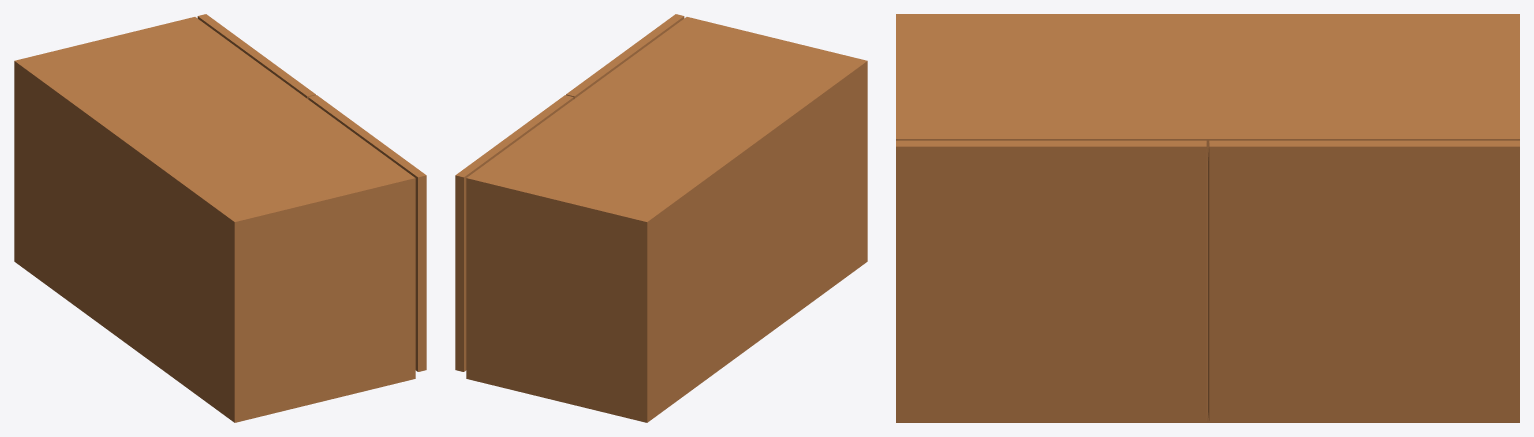
File: mueble_bajo.fbx
3 renders of one model, left to right at view 1: azimuth 30°, elevation 25°; view 2: azimuth 150°, elevation 25°; view 3: azimuth 270°, elevation 25°, orthographic. The views are drawn at different scales.
Parts seen in each view (by area): view 1: Cube; view 2: Cube; view 3: Cube.
Part boxes in pixels (box(x1,y1,x2,y2)): Cube: box(14, 14, 426, 422); Cube: box(455, 14, 867, 422); Cube: box(896, 14, 1519, 422).
Size of the model in its own units: 200 by 200 by 398.
